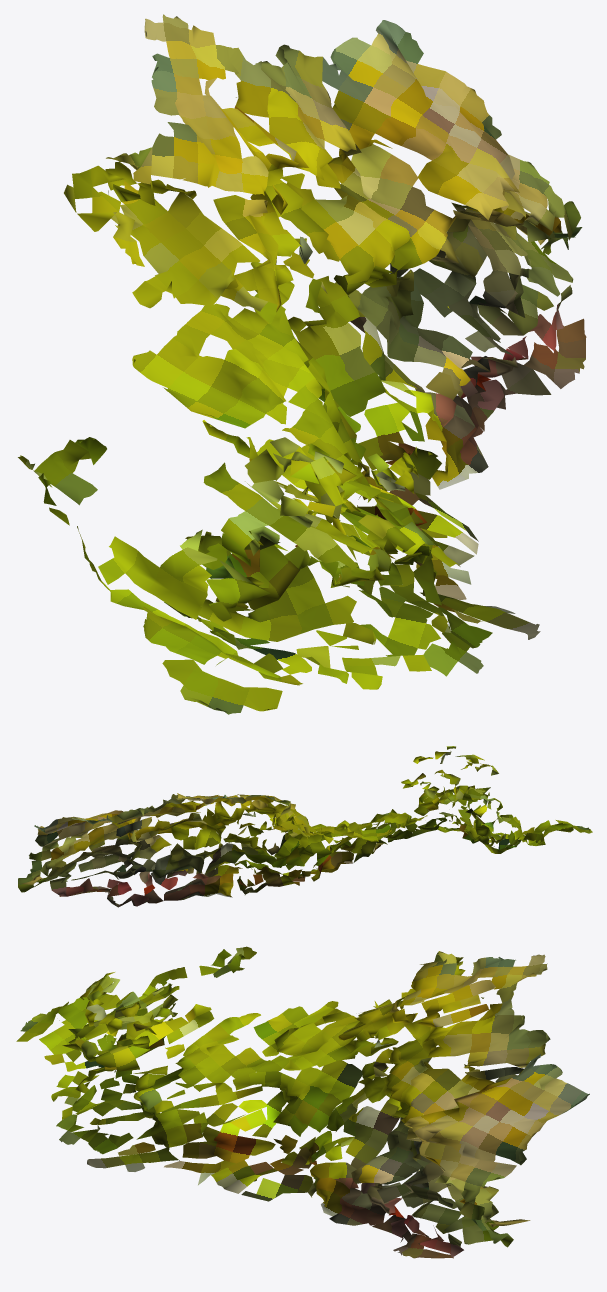
Rendered from test1_back.obj.
3 views of the same model, one above another, from view 1: azimuth 30°, elevation 25°; view 2: azimuth 150°, elevation 25°; view 3: azimuth 270°, elevation 25° (orthographic). The views are drawn at different scales.
Bounding box in the file's own units: 70.49 × 32.04 × 76.51.
